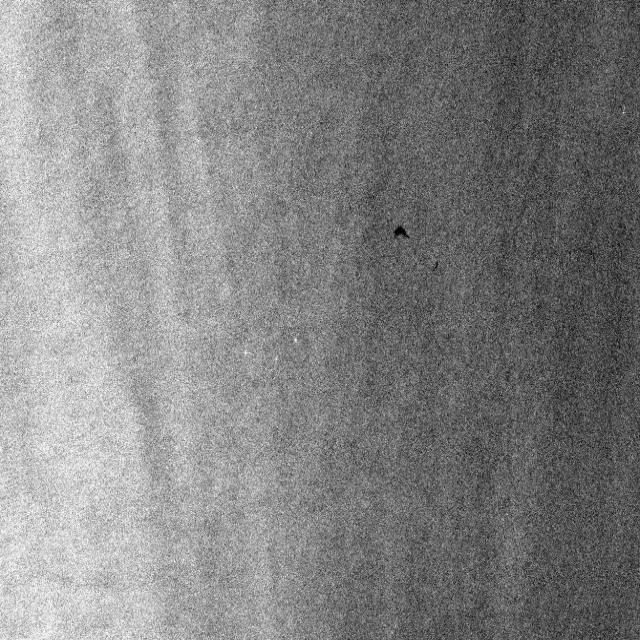oil-spill: (392, 220, 412, 252), (426, 252, 444, 282)
